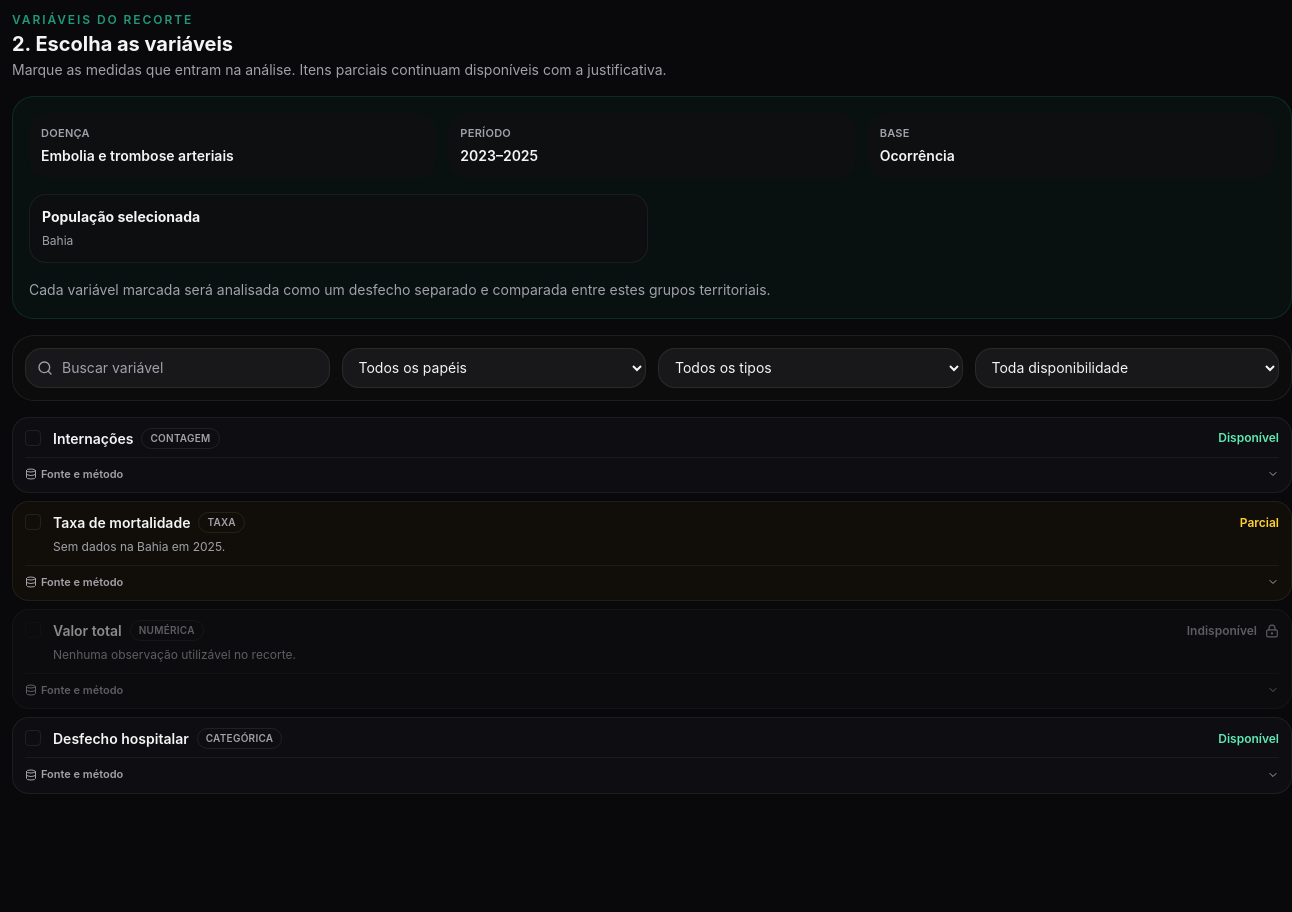
Test case: MapVariableList › filters by role, type and real availability
Select "Taxa" in the dropdown named "Filtrar por tipo" at point(810, 368), box [658,348,962,388]
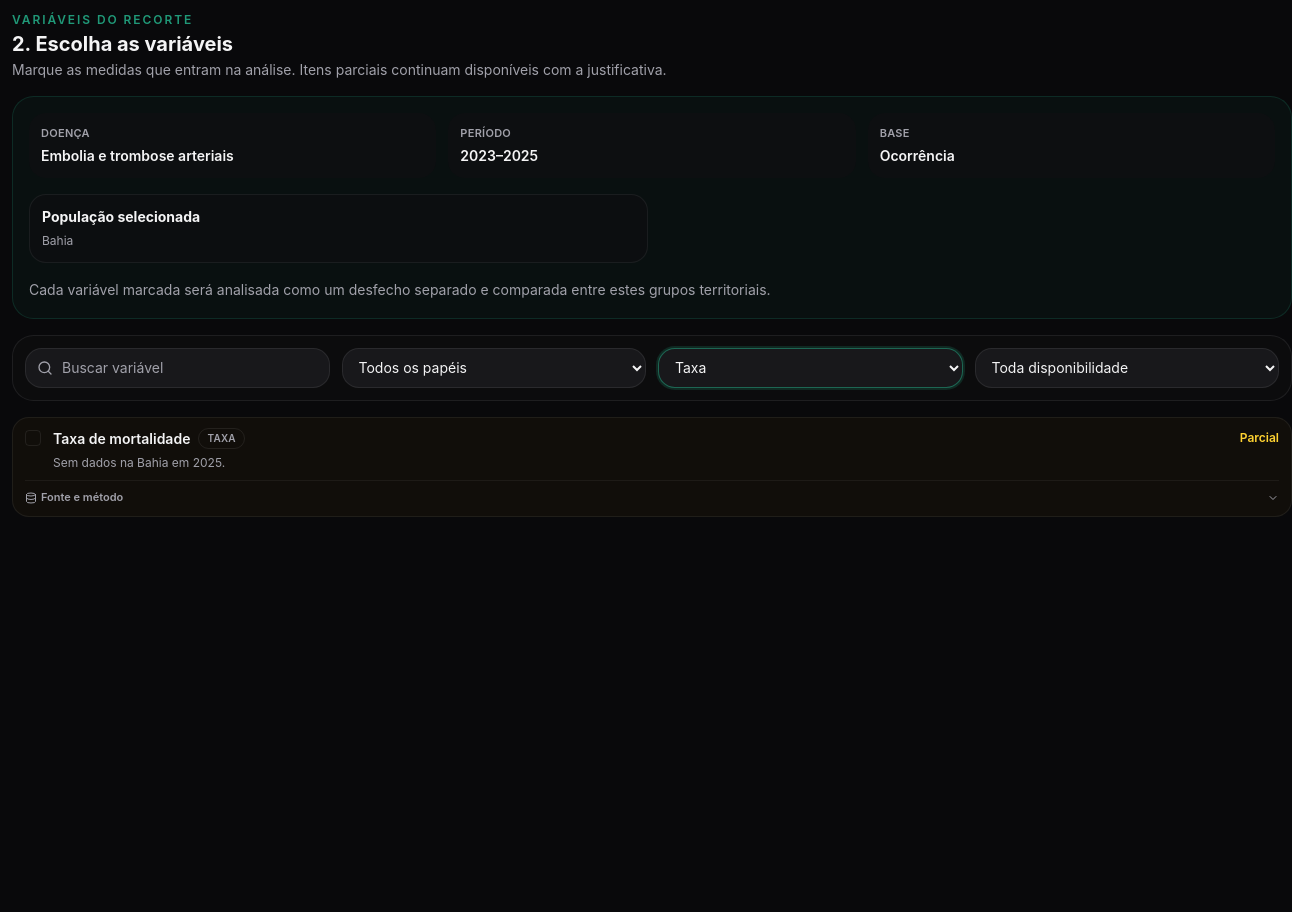
Expected: the text "Taxa de mortalidade" is shown, [53,429,190,448]
Expected: the text "Valor total" is gone
Select "Parcial" in the dropdown named "Filtrar por disponibilidade" at point(1127, 368), box [974,348,1279,388]
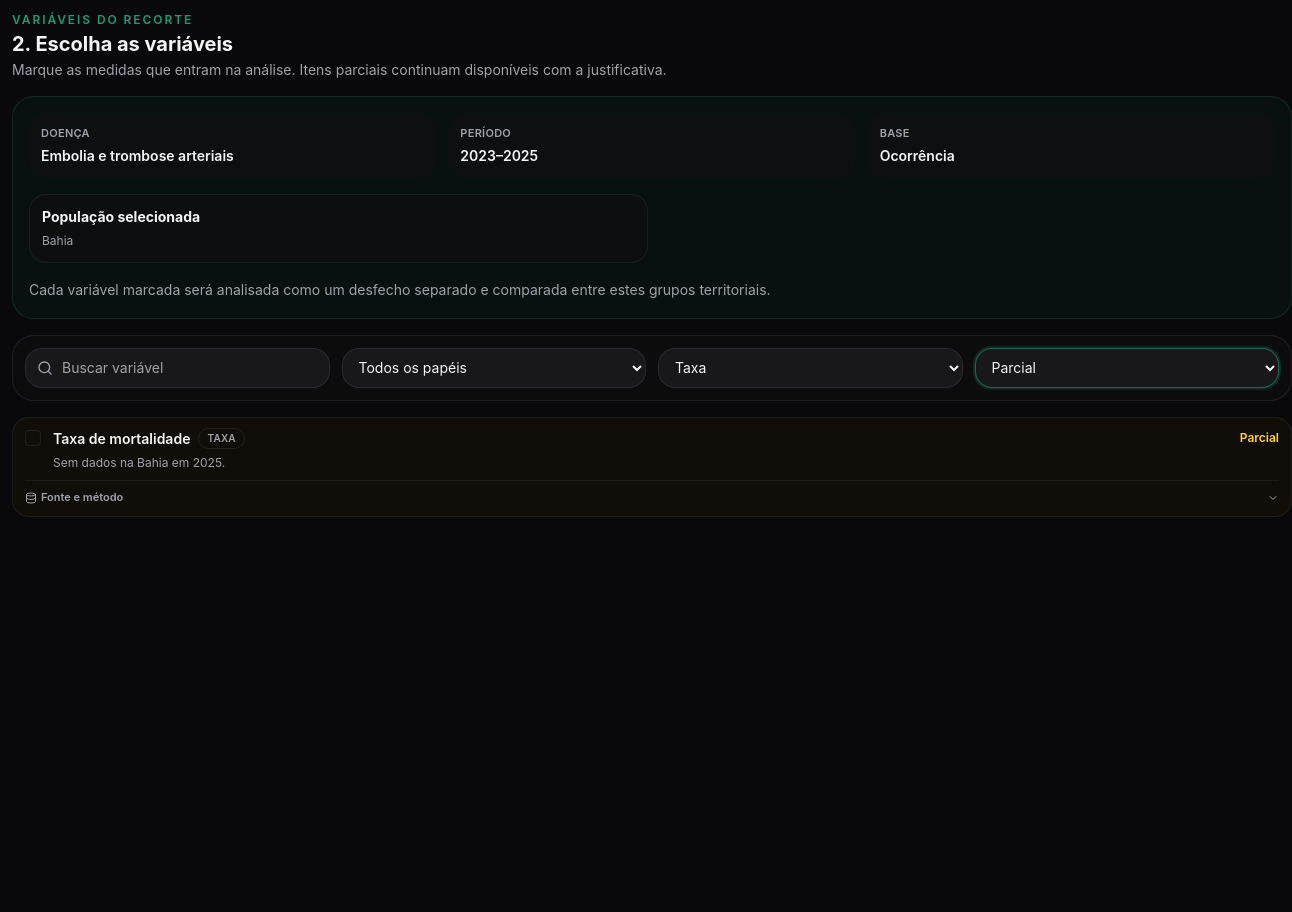
Expected: the text "Taxa de mortalidade" is shown, [53,429,190,448]
Select "Todos os tipos" in the dropdown named "Filtrar por tipo" at point(810, 368), box [658,348,962,388]
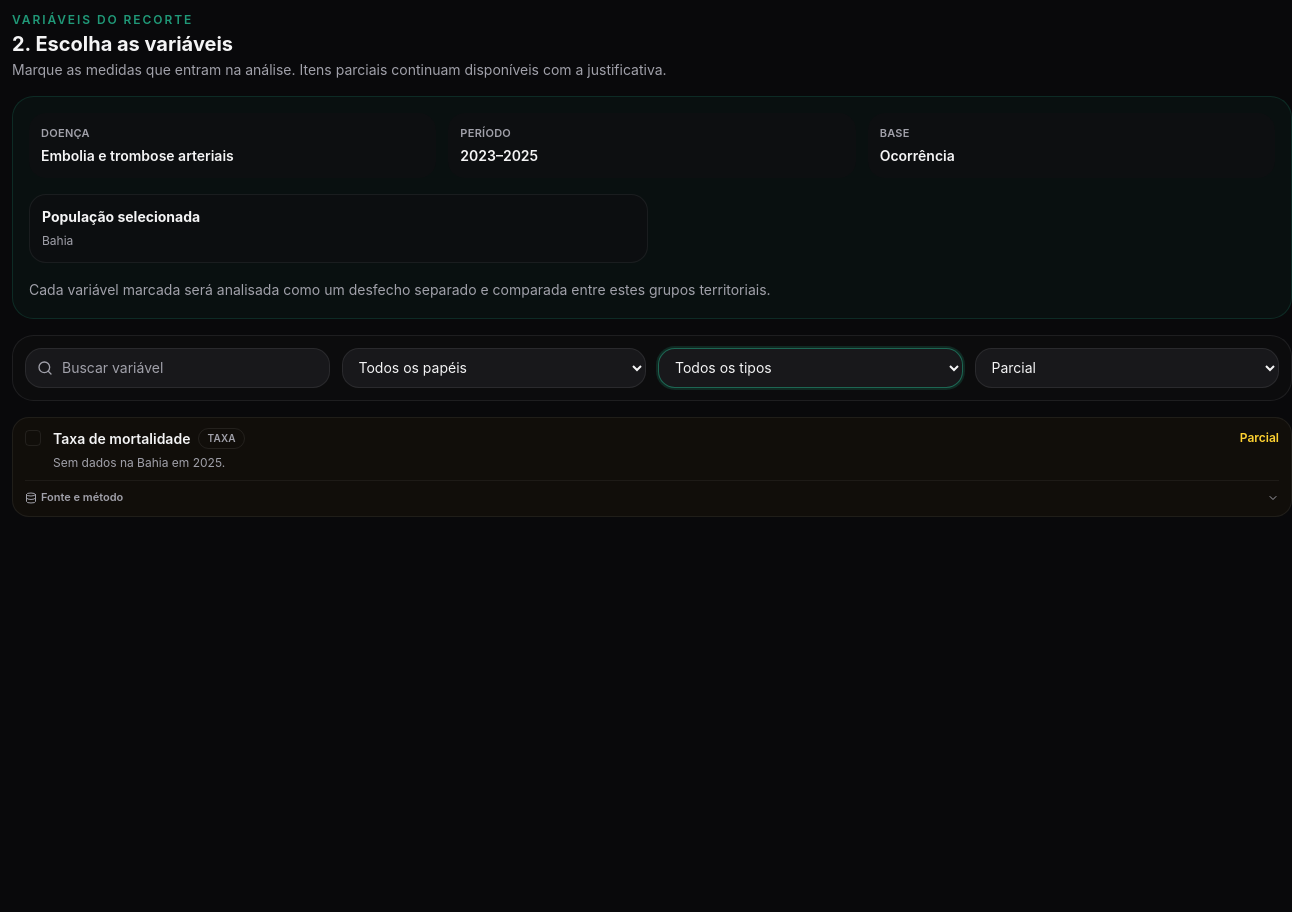
Select "Toda disponibilidade" in the dropdown named "Filtrar por disponibilidade" at point(1127, 368), box [974,348,1279,388]
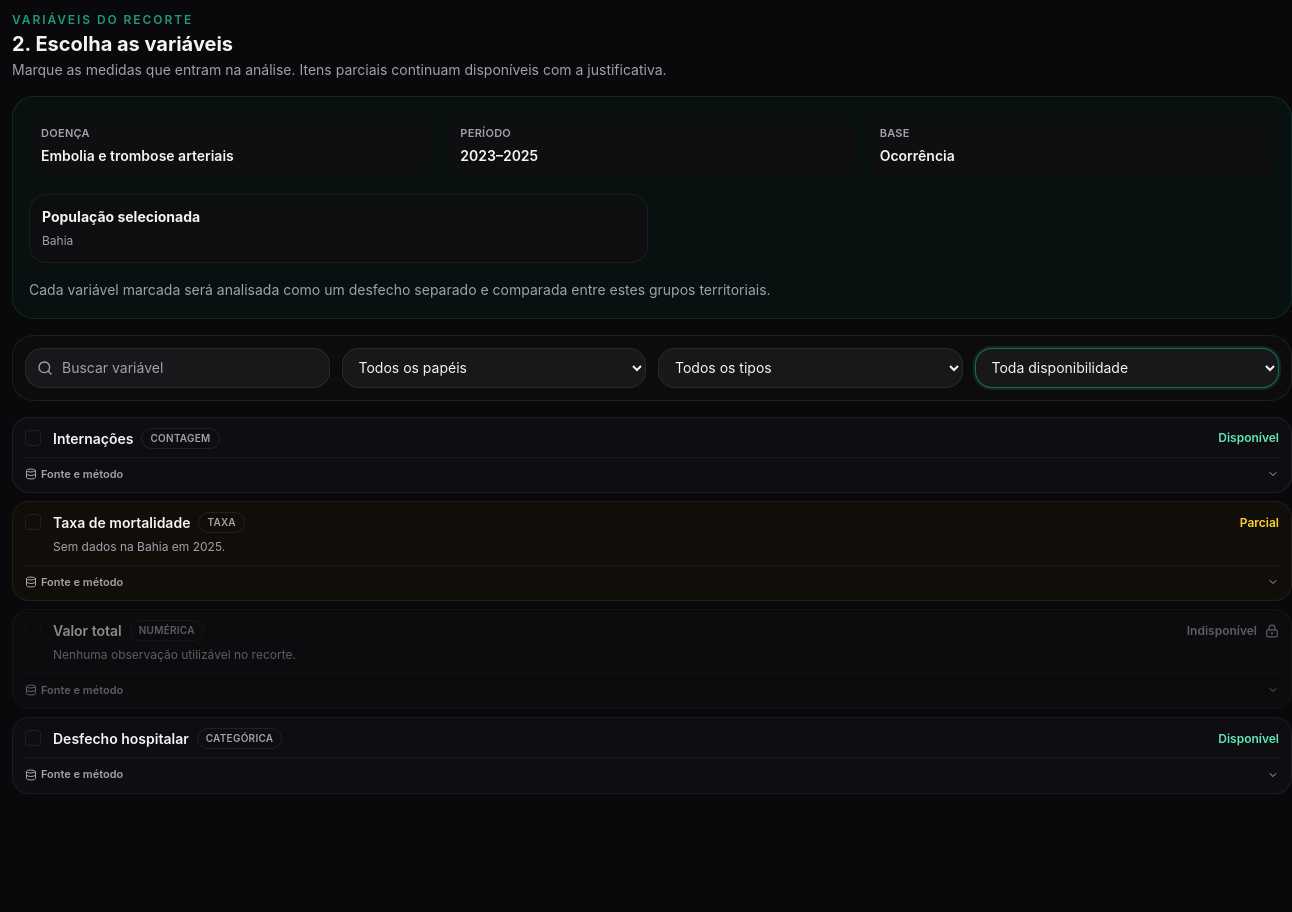
Select "Denominador (quando disponível)" in the dropdown named "Filtrar por papel" at point(494, 368), box [342,348,646,388]
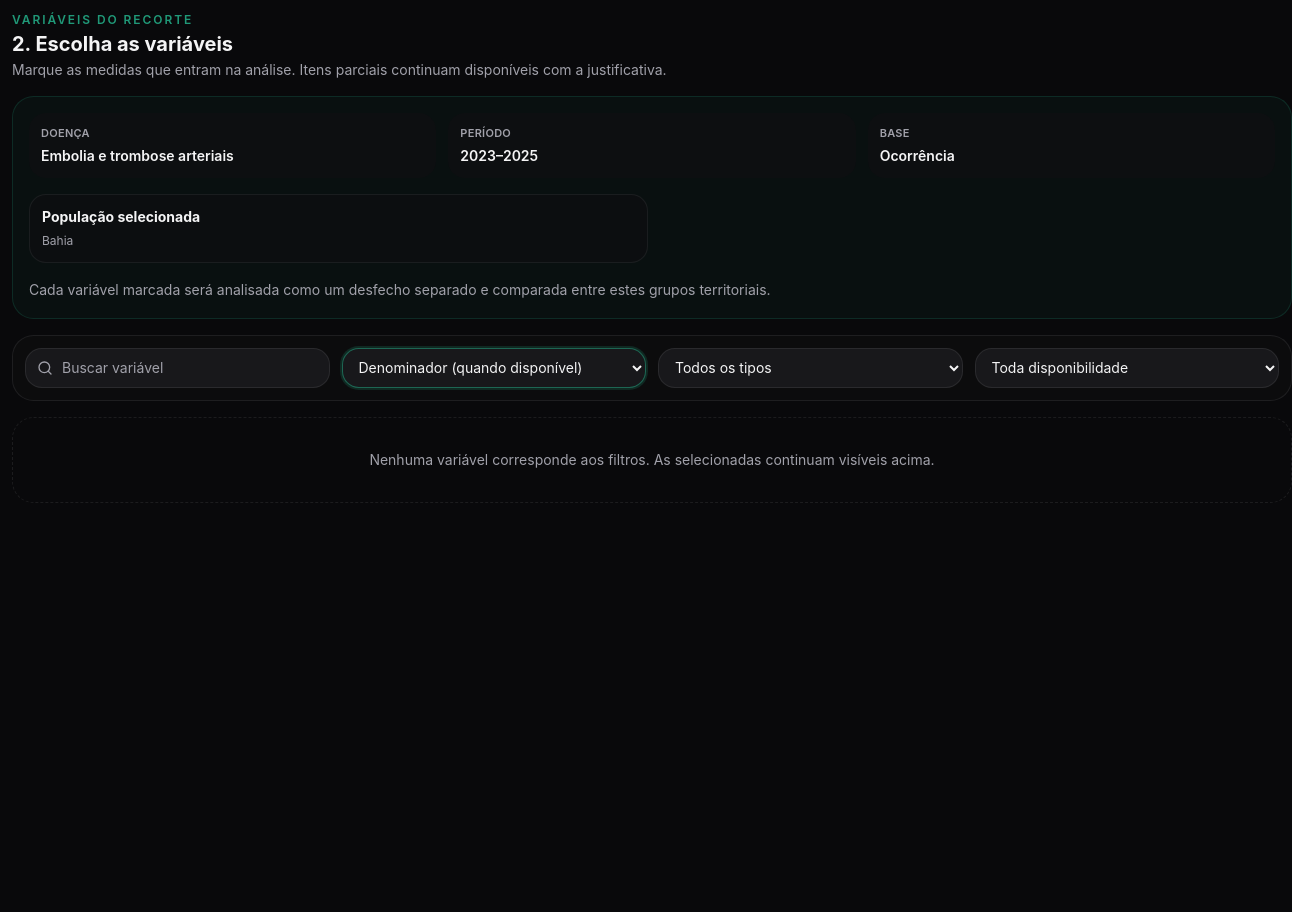
Expected: the text "Internações" is gone
Expected: the text "Nenhuma variável corresponde aos filtros" is shown, [369,451,935,468]
